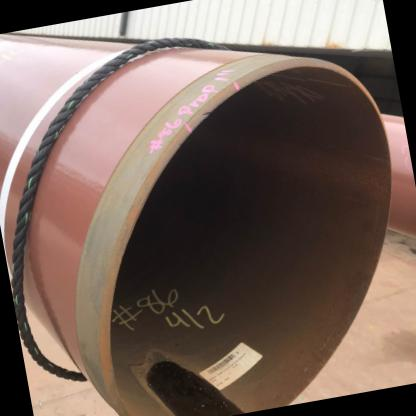Bevel: (197, 102, 221, 123)
